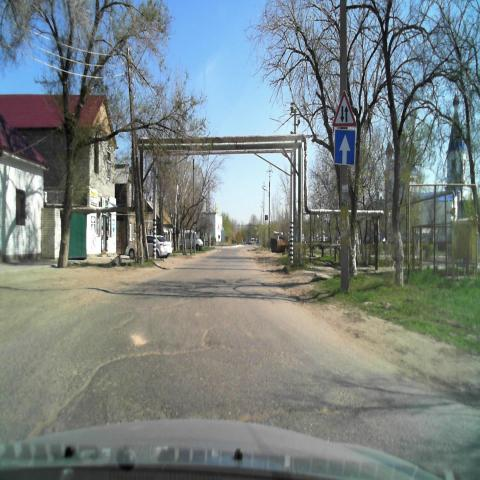1_21: (332, 87, 356, 125)
5_5: (334, 129, 355, 165)
